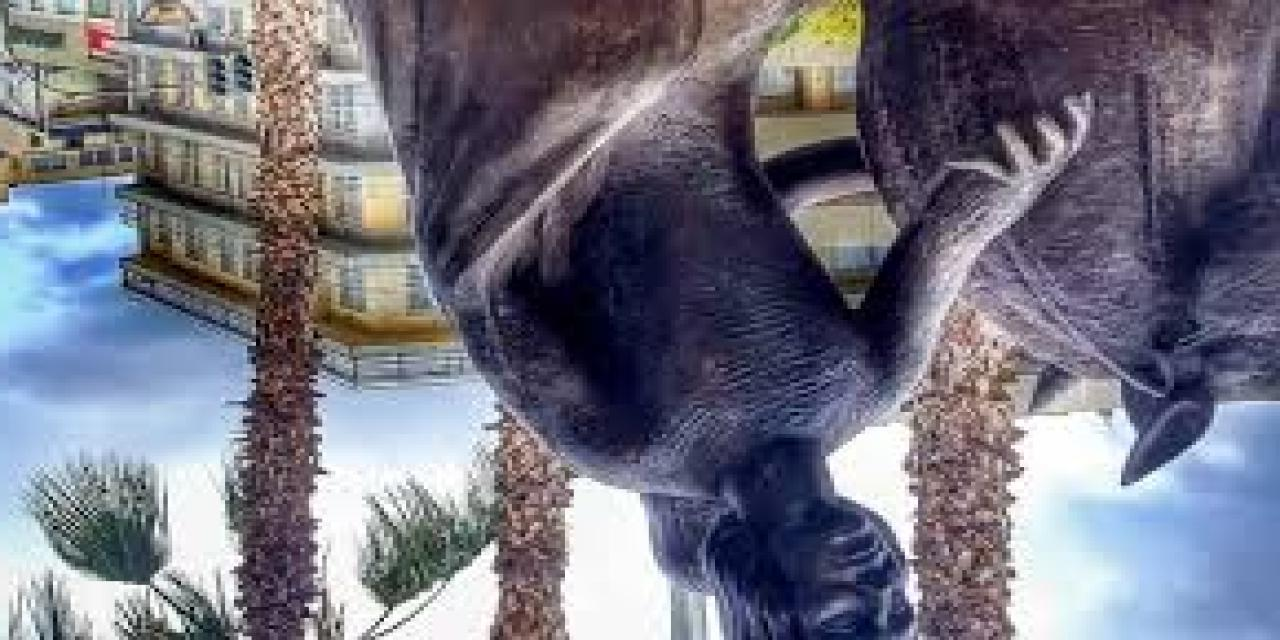Aretousa: (338, 1, 1280, 640)
